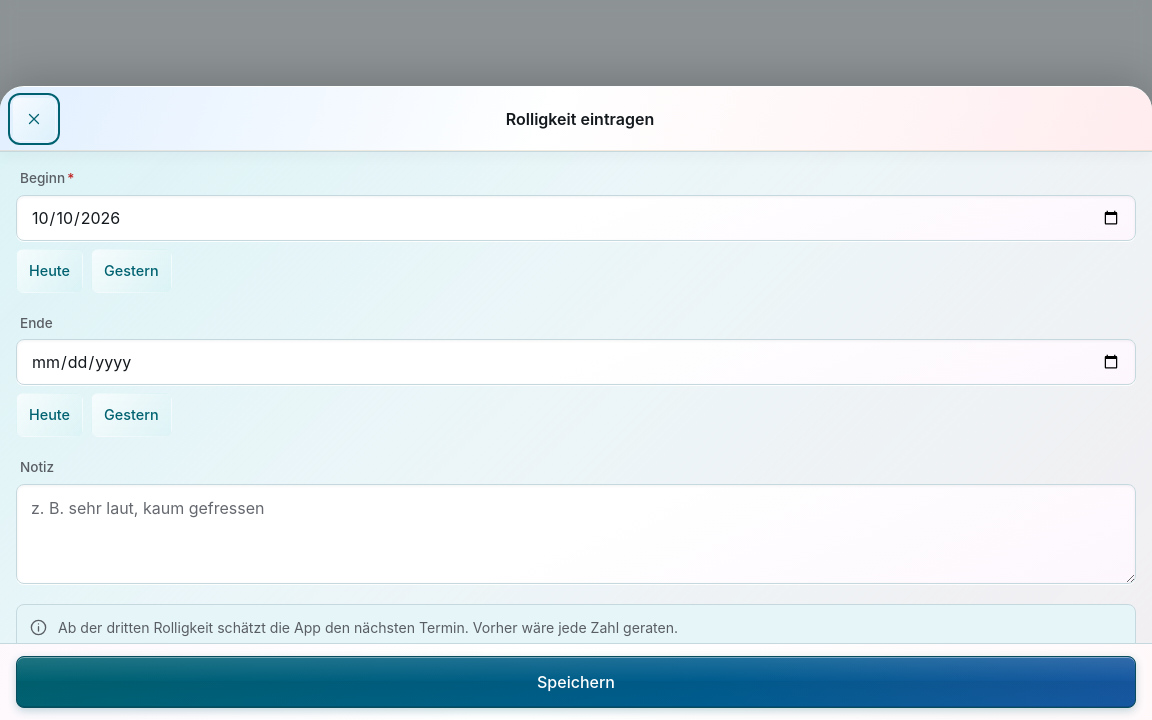
Test: HeatSheet › zeigt die Dauer, sobald ein Ende eingetragen ist
This screenshot has width=1152, height=720.
Type "2026-03-03" into the date field labelled "Beginn*" at (576, 218), box [16, 195, 1136, 241]
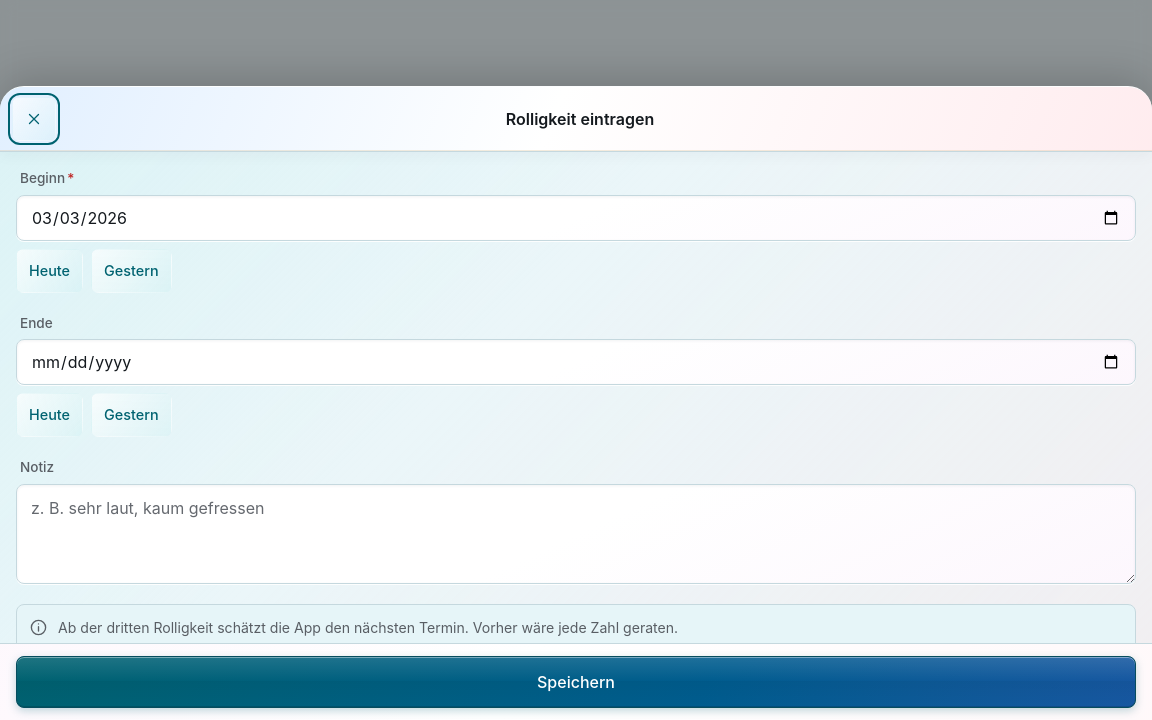
Type "2026-03-07" into the date field labelled "Ende" at (576, 362), box [16, 339, 1136, 385]
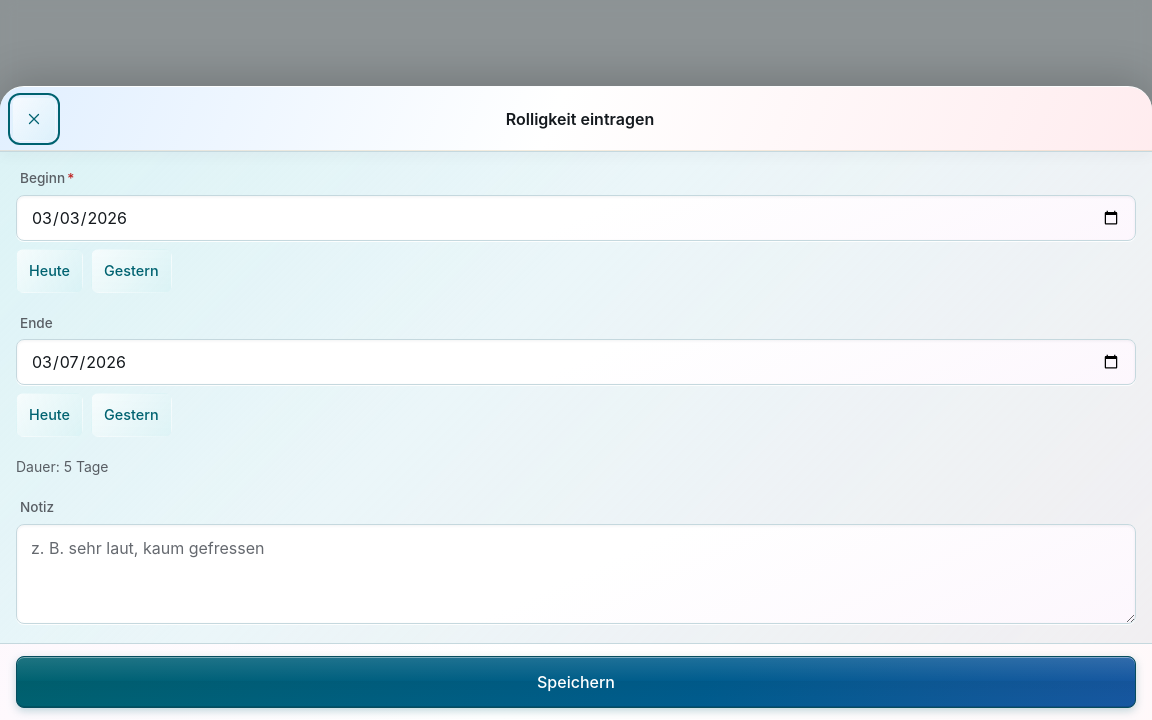
Expected: the text "Dauer: 5 Tage" is shown, [16, 458, 108, 475]
